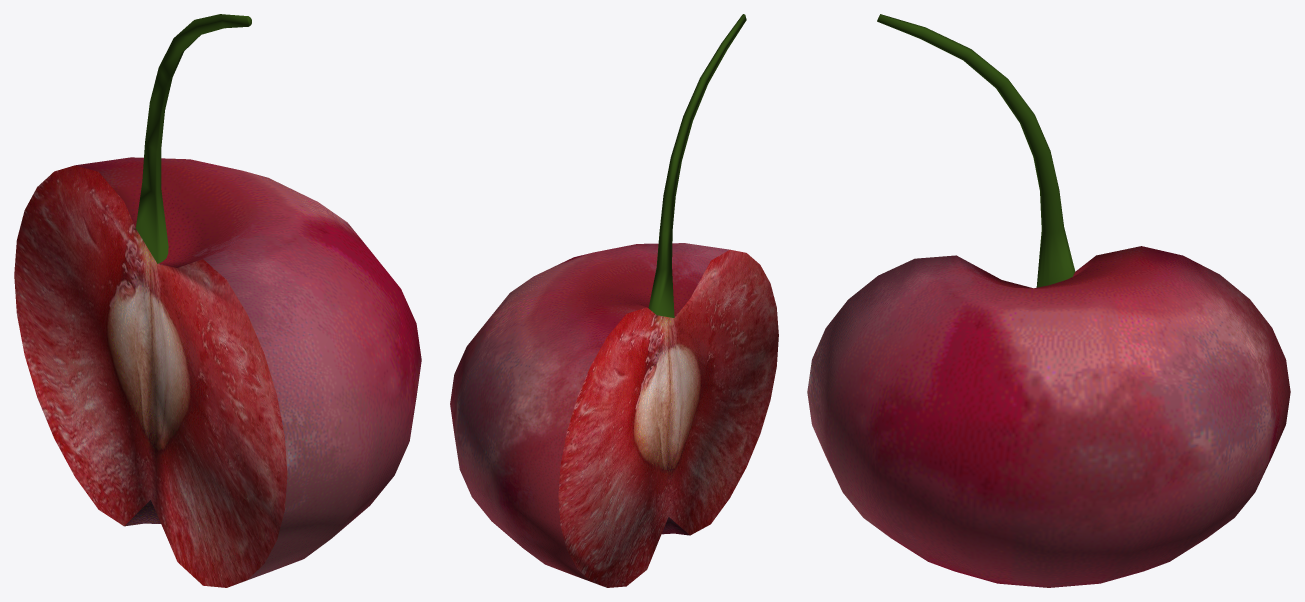
Rendered from Cherry-05.fbx.
3 renders of one model, left to right at view 1: azimuth 30°, elevation 25°; view 2: azimuth 150°, elevation 25°; view 3: azimuth 270°, elevation 25°, orthographic. The views are drawn at different scales.
Parts seen in each view (by area): view 1: Cherry; view 2: Cherry; view 3: Cherry.
Part boxes in pixels (box(x1,y1,x2,y2)): Cherry: box(14, 14, 421, 587); Cherry: box(450, 14, 778, 587); Cherry: box(807, 14, 1290, 587).
Bounding box in the file's own units: 12.6 × 30.51 × 25.15.
Materials: 2 (1 with a texture image).
